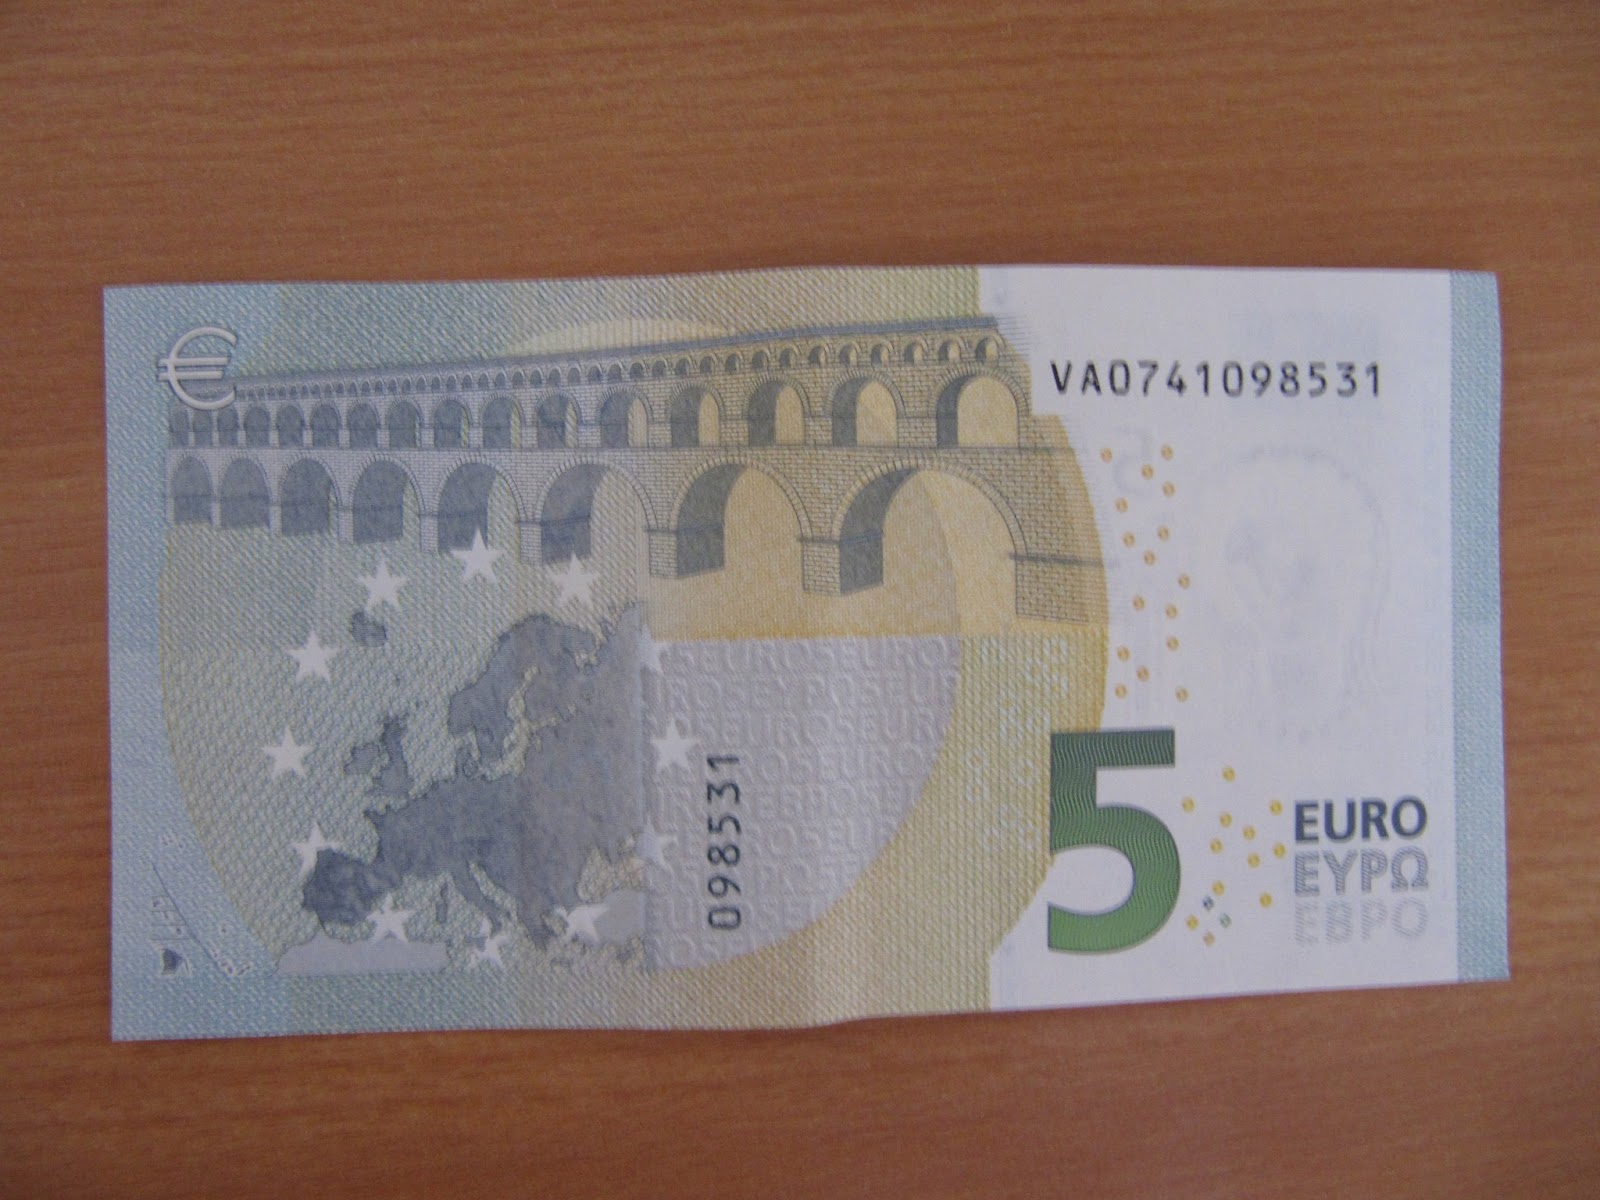billete: (94, 257, 1519, 1044)
